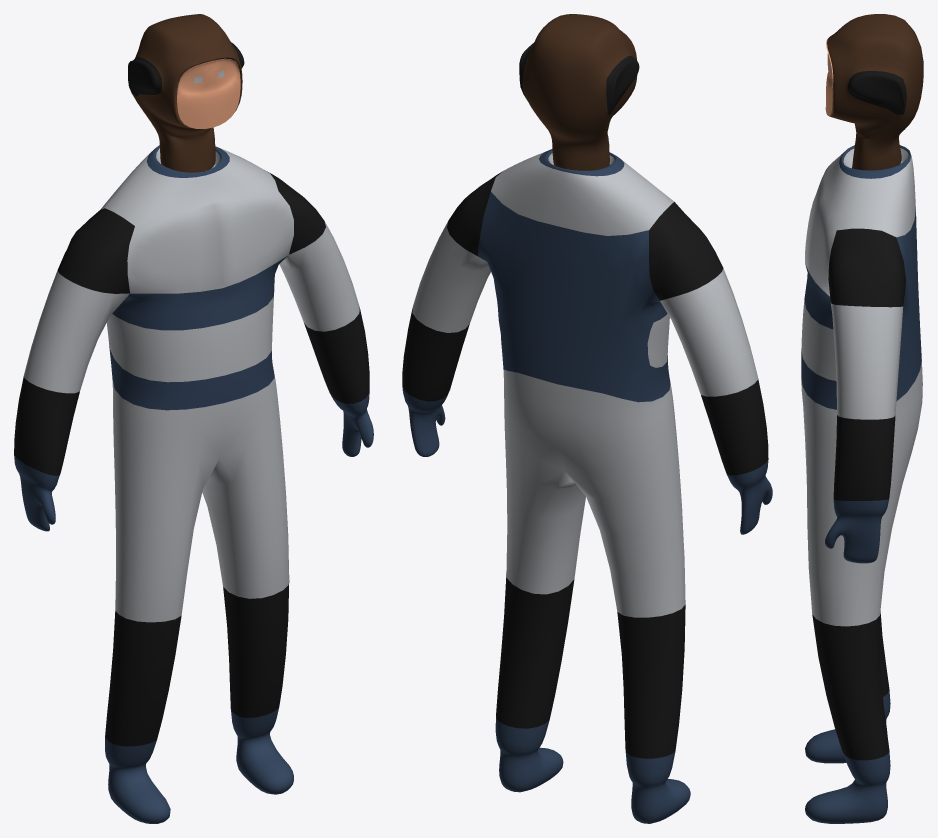
File: kanta_007.fbx
The picture shows the model from 3 angles, left to right: view 1: azimuth 30°, elevation 25°; view 2: azimuth 150°, elevation 25°; view 3: azimuth 270°, elevation 25°; orthographic projection. The views are drawn at different scales.
Visible parts, largest first — view 1: Kanta; view 2: Kanta; view 3: Kanta.
Part boxes in pixels (x1=…): Kanta: x1=14, y1=14, x2=373, y2=823; Kanta: x1=402, y1=14, x2=772, y2=823; Kanta: x1=801, y1=14, x2=923, y2=823.
Bounding box in the file's own units: 260 × 551 × 79.79.
